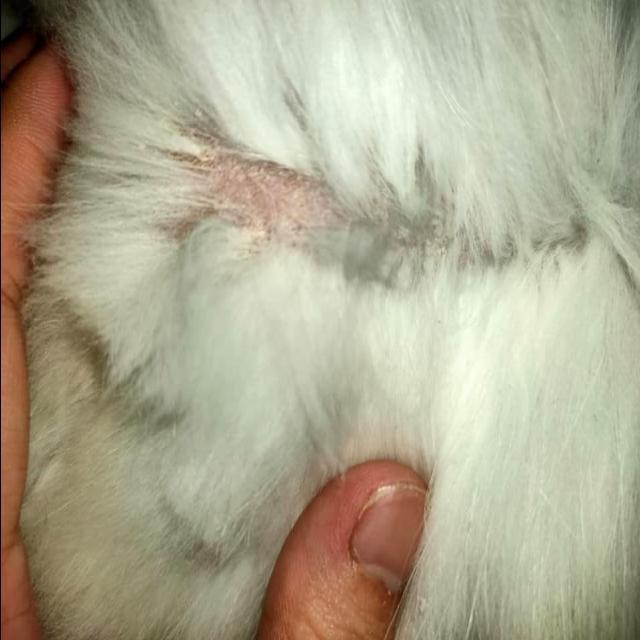hac lao: (134, 110, 358, 301)
